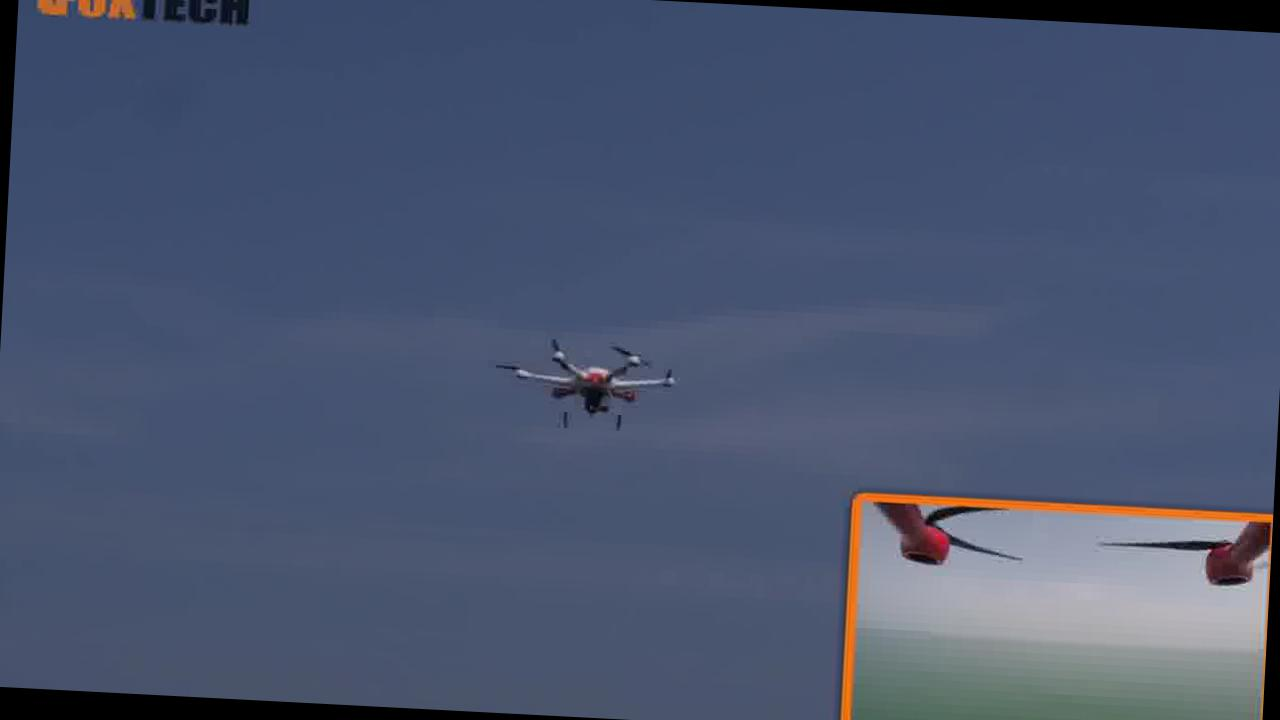drone: (484, 331, 696, 451)
